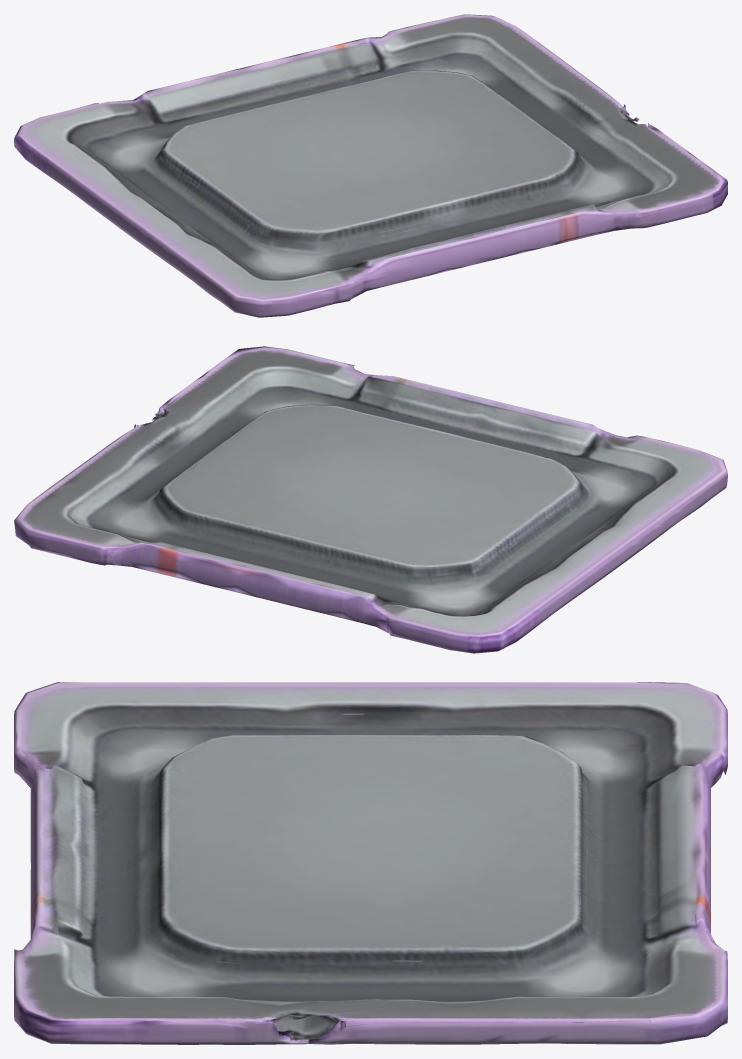
The model's file is PistonBase.fbx.
3 views of the same model, one above another, from view 1: azimuth 30°, elevation 25°; view 2: azimuth 150°, elevation 25°; view 3: azimuth 270°, elevation 25° (orthographic). The views are drawn at different scales.
Visible parts, largest first — view 1: Mesh_0; view 2: Mesh_0; view 3: Mesh_0.
Boxes of the visible parts, bbox=[...] form: Mesh_0: bbox=[14, 14, 727, 317]; Mesh_0: bbox=[14, 346, 727, 653]; Mesh_0: bbox=[14, 682, 727, 1044].
Size of the model in its own units: 191 by 16.69 by 169.
Materials: 1 (1 with a texture image).
